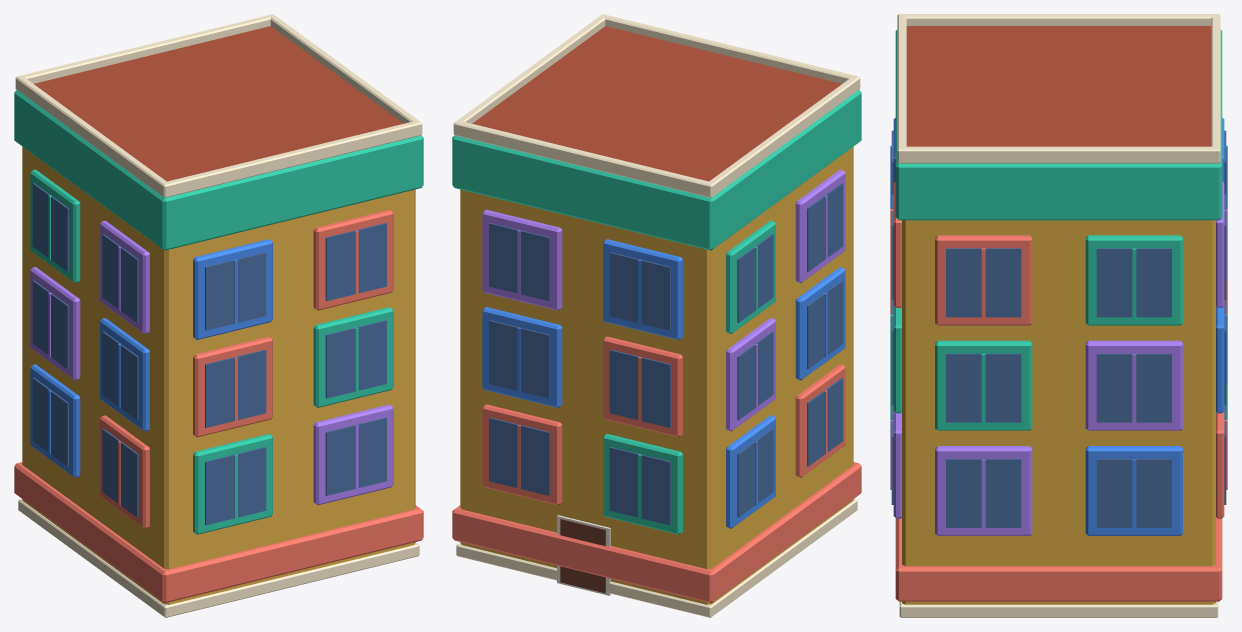
File: bld_d2_a.glb
3 views of the same model, side by side, from view 1: azimuth 30°, elevation 25°; view 2: azimuth 150°, elevation 25°; view 3: azimuth 270°, elevation 25° (orthographic). The views are drawn at different scales.
Visible parts, largest first — view 1: bld_d2_a; view 2: bld_d2_a; view 3: bld_d2_a.
Part boxes in pixels (<box>): bld_d2_a: <box>14,14,423,617</box>; bld_d2_a: <box>452,14,861,617</box>; bld_d2_a: <box>890,14,1227,617</box>.
Size of the model in its own units: 10.74 by 16.57 by 10.74.
